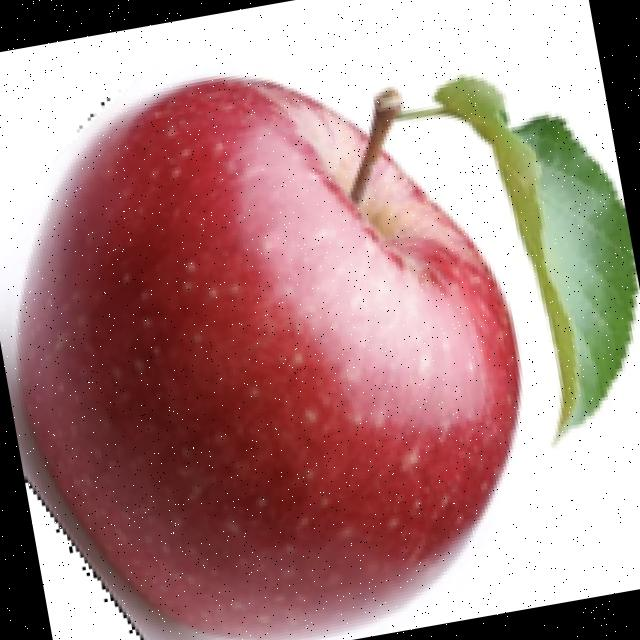apple: (0, 69, 640, 640)
